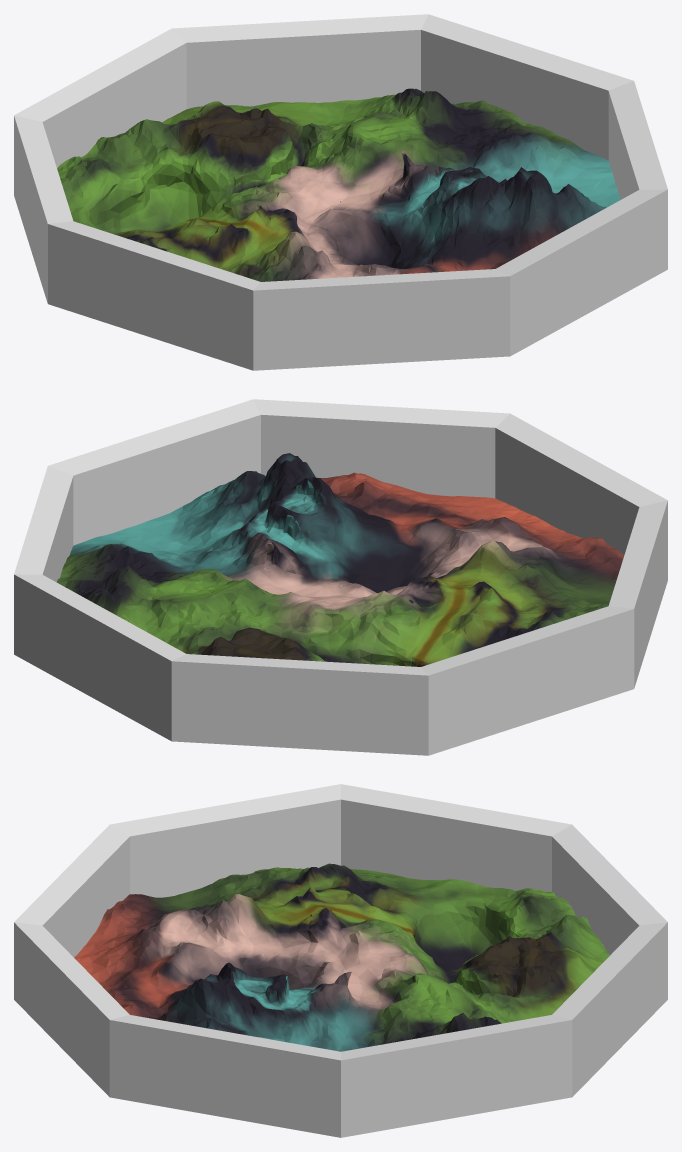
The model's file is lobbyWithCollision.glb.
3 views of the same model, one above another, from view 1: azimuth 30°, elevation 25°; view 2: azimuth 150°, elevation 25°; view 3: azimuth 270°, elevation 25° (orthographic). The views are drawn at different scales.
Parts seen in each view (by area): view 1: land limit, Landscape; view 2: land limit, Landscape; view 3: land limit, Landscape.
Part boxes in pixels (x1,y1,x2,y2): land limit: (14,14,667,370); Landscape: (57,88,620,281); land limit: (14,399,667,755); Landscape: (56,453,623,666); land limit: (14,784,667,1137); Landscape: (74,863,610,1051).
Size of what is drawn, in the model's own units: 4.91 by 0.9679 by 4.91.
1 material, 1 textured.
